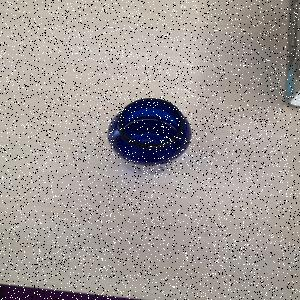Plastic-bottle: (108, 99, 195, 177)
